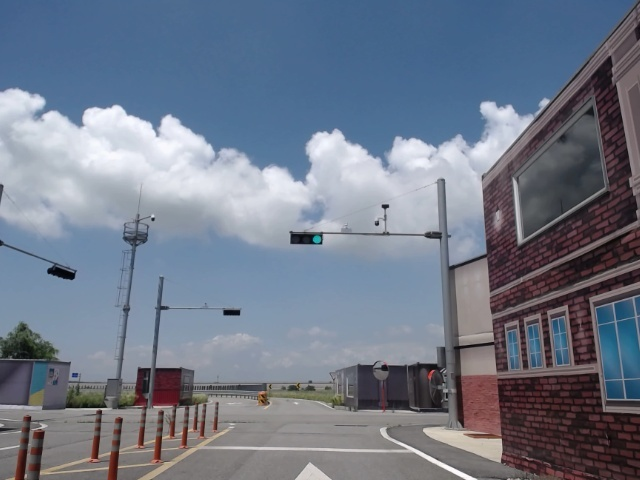green_3: (292, 233, 322, 243)
